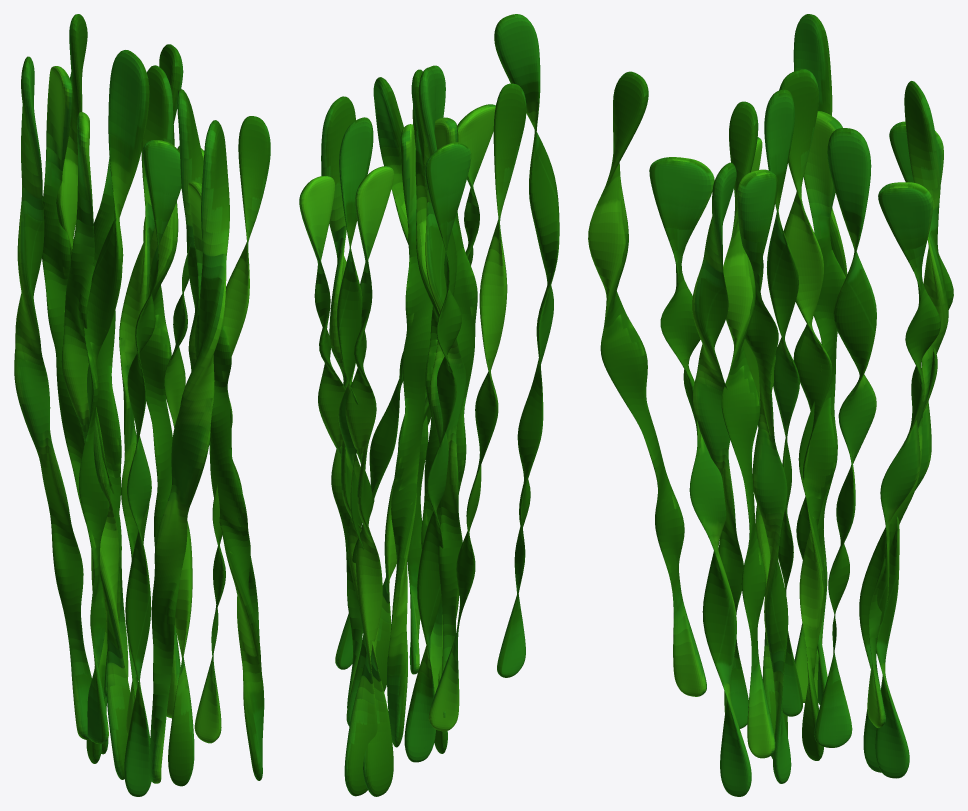
The model's file is seaweed1.glb.
3 renders of one model, left to right at view 1: azimuth 30°, elevation 25°; view 2: azimuth 150°, elevation 25°; view 3: azimuth 270°, elevation 25°, orthographic. The views are drawn at different scales.
Parts seen in each view (by area): view 1: Plane.009; view 2: Plane.009; view 3: Plane.009.
Boxes of the visible parts, left/top/right/bottom form: Plane.009: left=14, top=14, right=270, bottom=796; Plane.009: left=299, top=14, right=559, bottom=796; Plane.009: left=588, top=14, right=953, bottom=796.
Bounding box in the file's own units: 5.81 × 19.19 × 8.94.
1 material, 1 textured.
